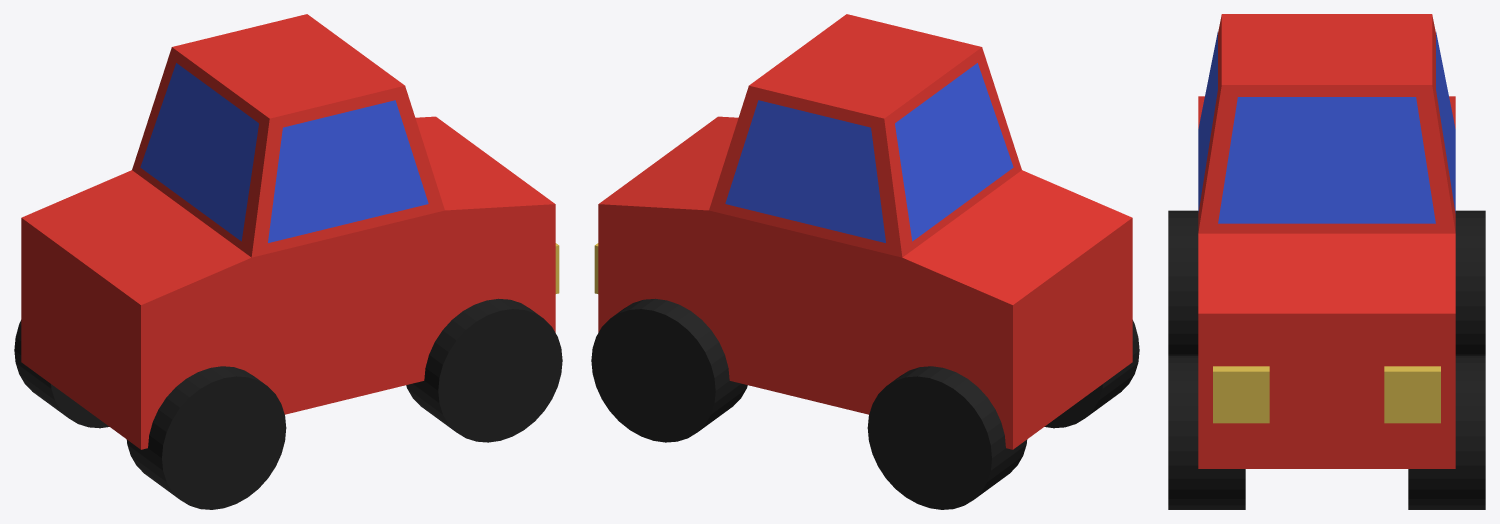
Rendered from car.fbx.
3 renders of one model, left to right at view 1: azimuth 30°, elevation 25°; view 2: azimuth 150°, elevation 25°; view 3: azimuth 270°, elevation 25°, orthographic. The views are drawn at different scales.
Parts seen in each view (by area): view 1: Cube; view 2: Cube; view 3: Cube.
Boxes of the visible parts, x1=… form: Cube: x1=14, y1=14, x2=562, y2=509; Cube: x1=591, y1=14, x2=1139, y2=509; Cube: x1=1168, y1=14, x2=1485, y2=509.
Size of the model in its own units: 615 by 490 by 370.
